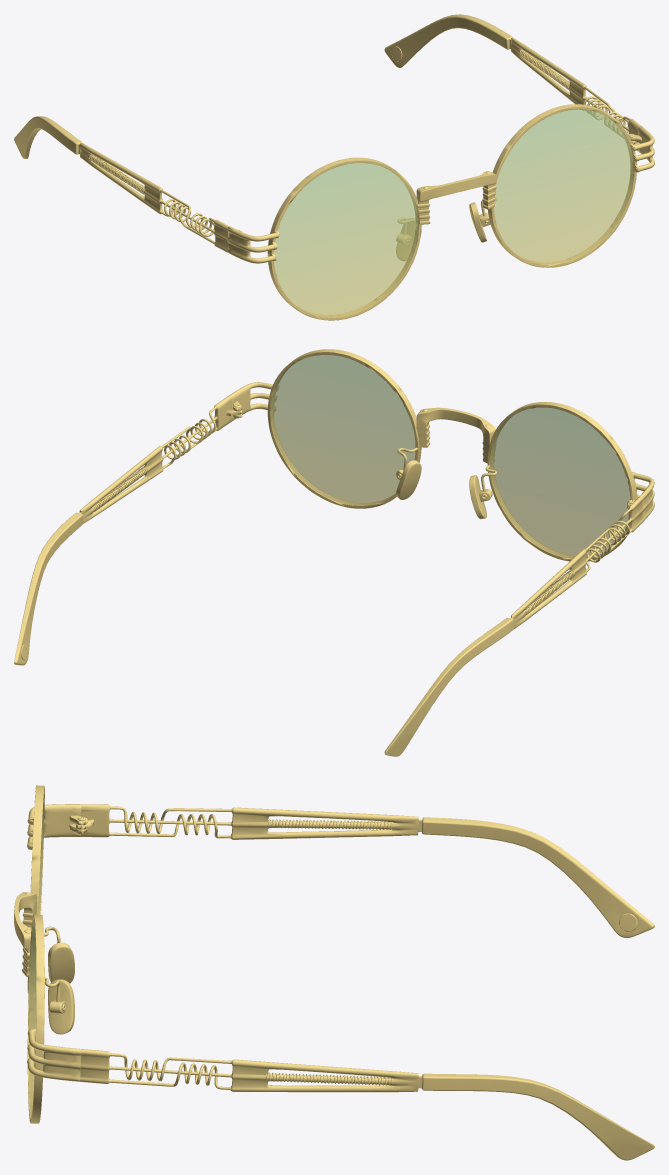
File: model_10_emas.glb
3 renders of one model, top to bottom at view 1: azimuth 30°, elevation 25°; view 2: azimuth 150°, elevation 25°; view 3: azimuth 270°, elevation 25°, orthographic. The views are drawn at different scales.
Visible parts, largest first — view 1: model_10_emas; view 2: model_10_emas; view 3: model_10_emas.
Boxes of the visible parts, x1=… form: model_10_emas: x1=14, y1=14, x2=654, y2=320; model_10_emas: x1=14, y1=349, x2=654, y2=756; model_10_emas: x1=14, y1=785, x2=654, y2=1160.
Size of the model in its own units: 7.04 by 2.38 by 7.31.
